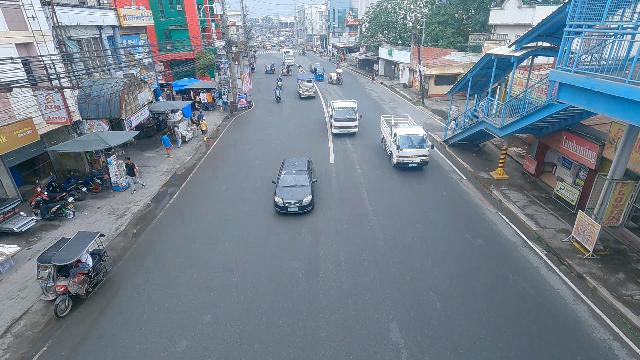car: (271, 155, 316, 216)
jeepney: (296, 72, 316, 100), (263, 42, 272, 50)
motorcycle: (273, 87, 282, 103), (276, 75, 283, 89), (250, 63, 256, 73), (298, 66, 304, 73), (278, 46, 281, 53)
truck: (379, 112, 433, 170), (327, 98, 360, 137), (282, 49, 295, 68)
